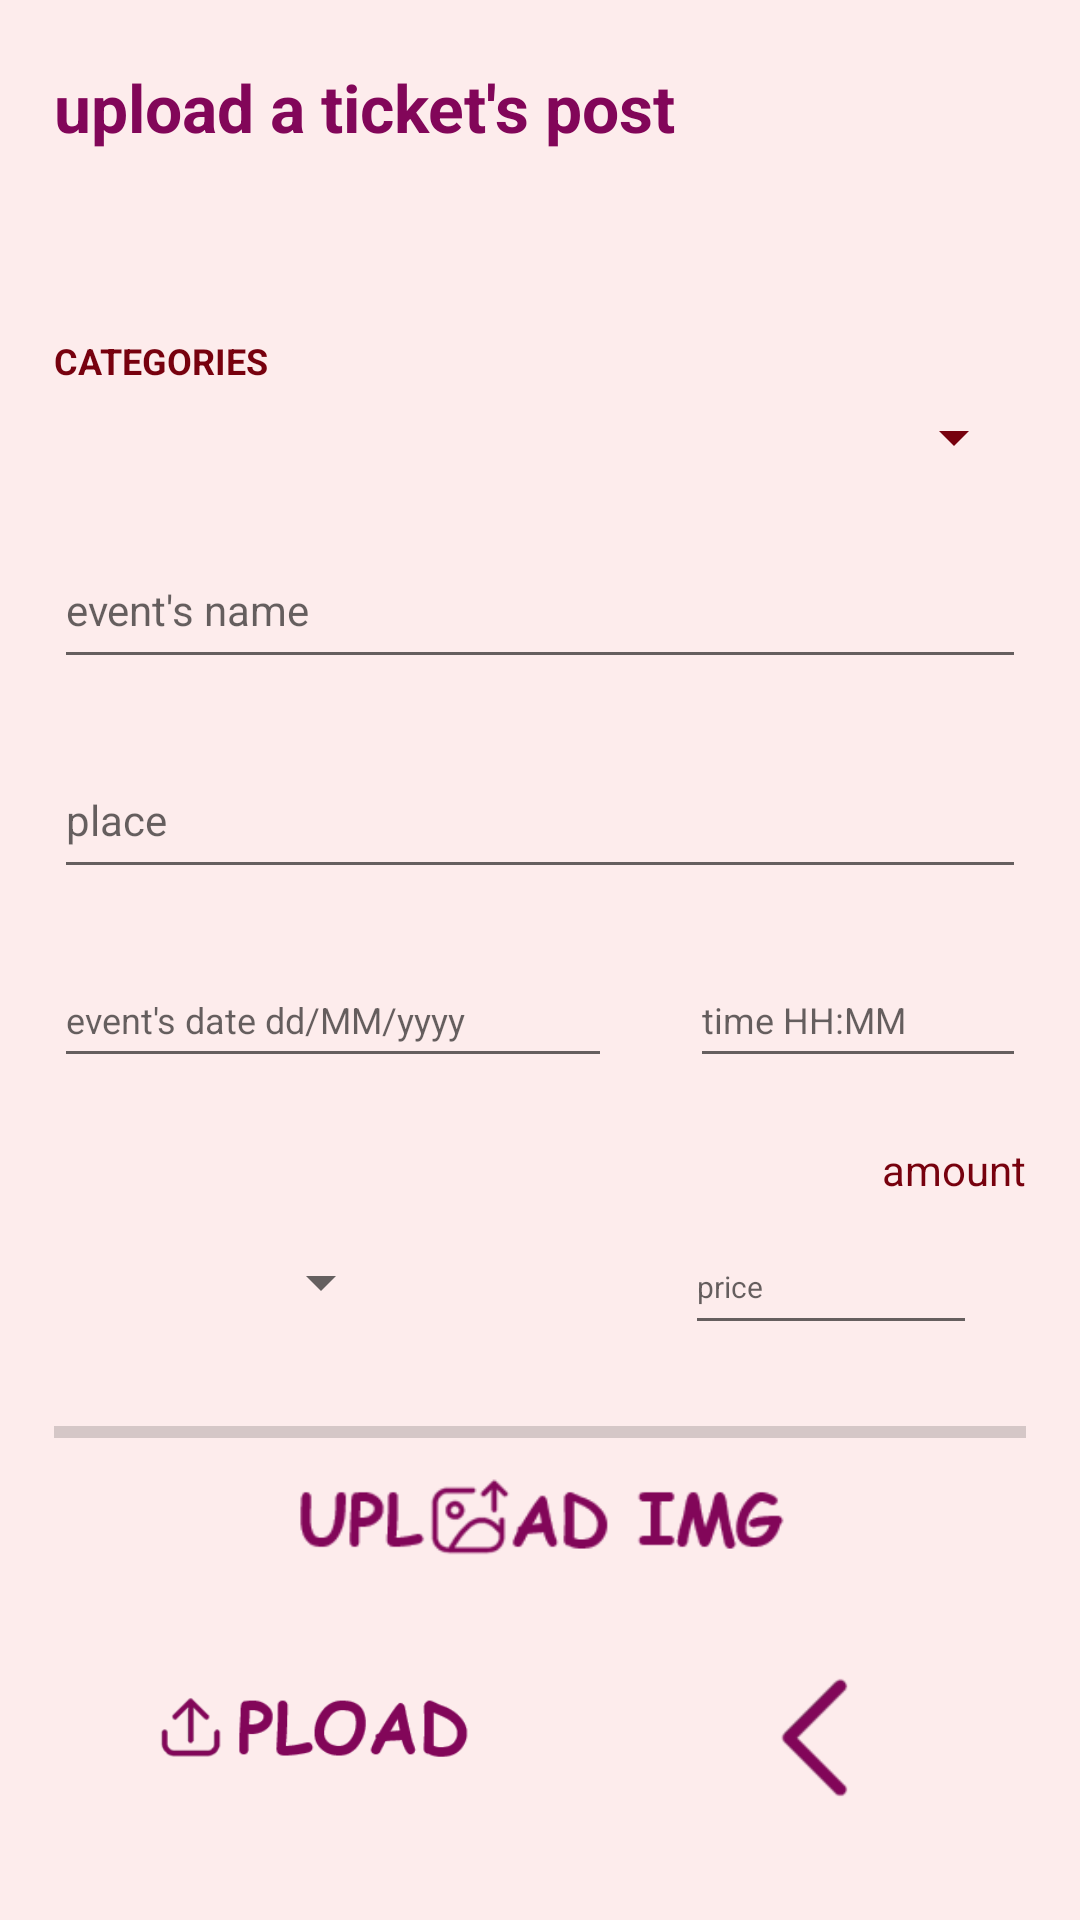

Icon bounding boxes for this 1080px×1920px phone screenshot, format (x1,y1,x2,y2):
back: (781,1679,848,1796)
